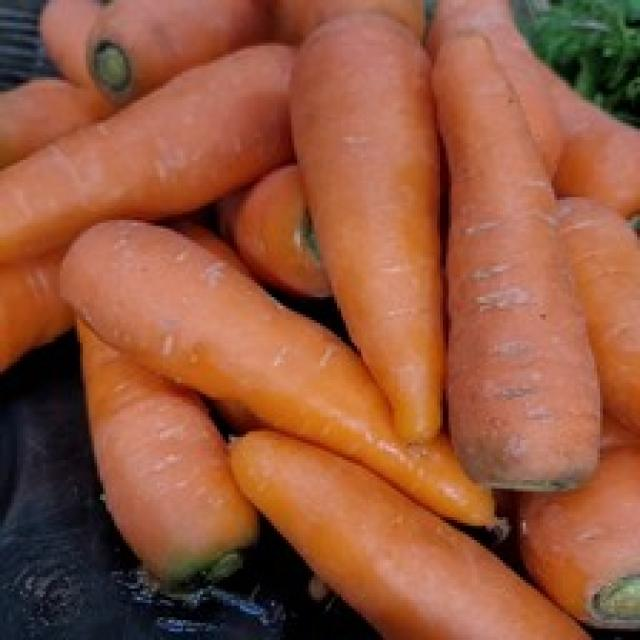Fresh_Carrot: (59, 234, 552, 431), (280, 26, 471, 430), (214, 436, 566, 640)
